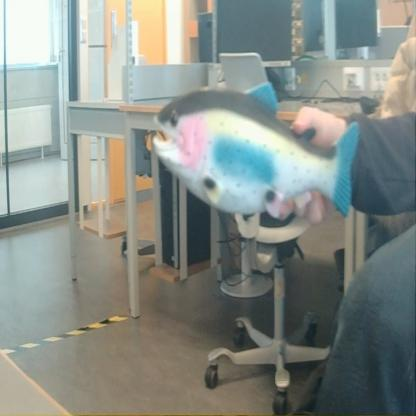rubberfish: (139, 87, 362, 225)
